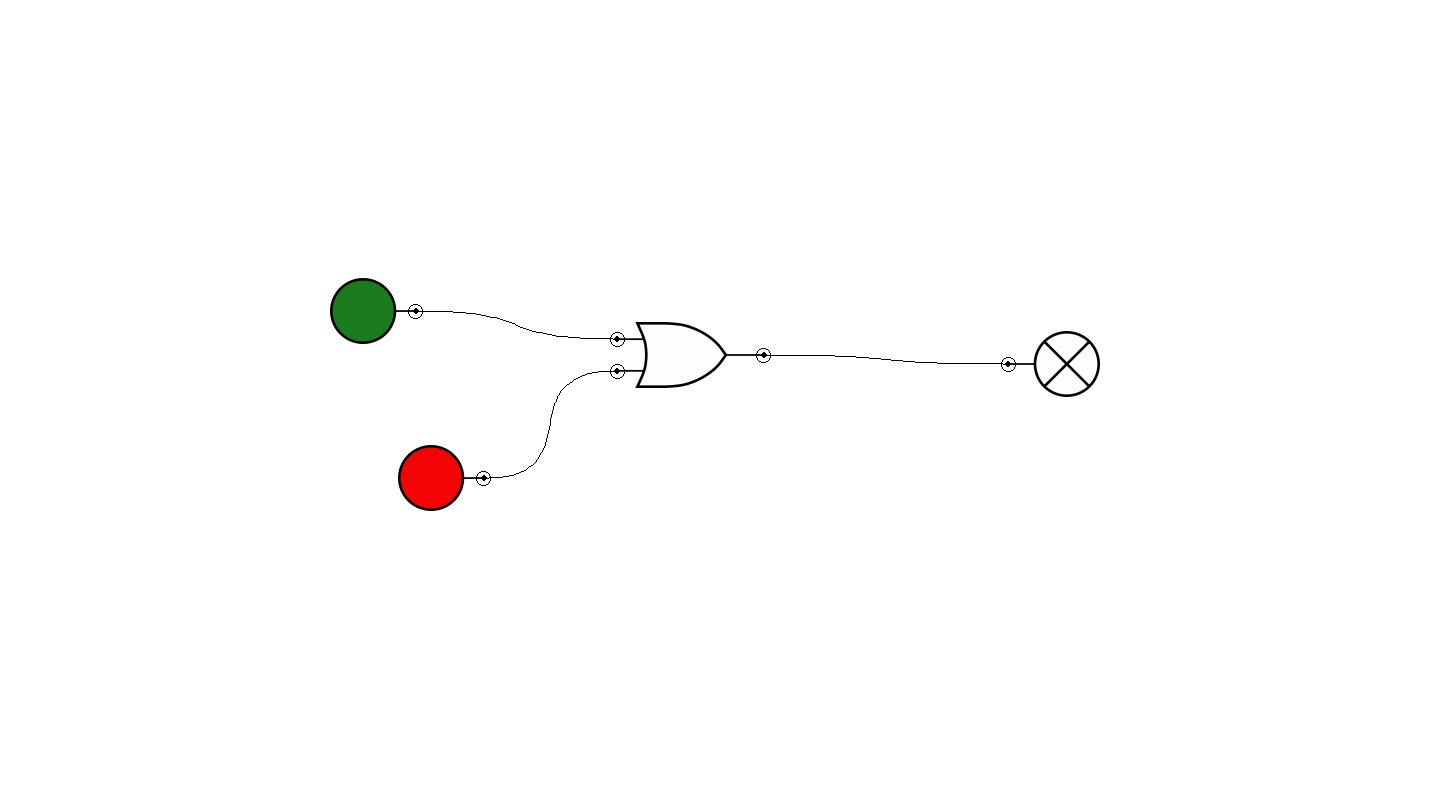bulb: (1001, 331, 1100, 397)
or: (610, 322, 771, 388)
switch_False: (398, 445, 491, 511)
switch_True: (330, 278, 423, 344)
